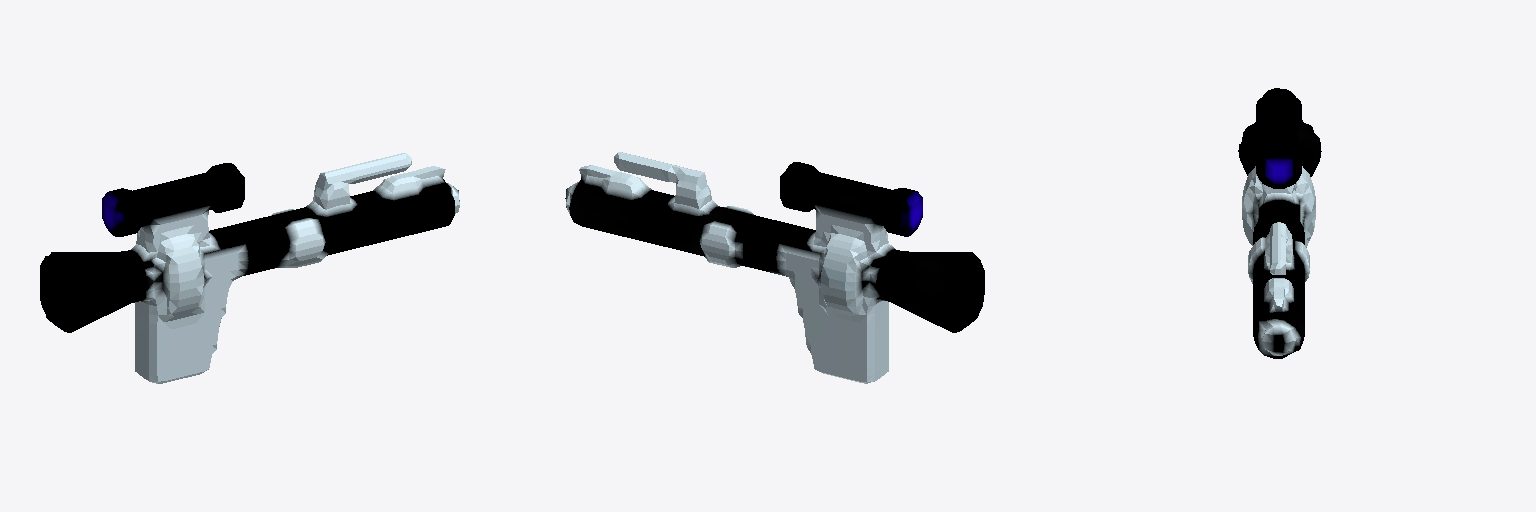
The picture shows the model from 3 angles: view 1: azimuth 30°, elevation 25°; view 2: azimuth 150°, elevation 25°; view 3: azimuth 270°, elevation 25°; orthographic projection.
Parts seen in each view (by area): view 1: Box_1; view 2: Box_1; view 3: Box_1.
Part boxes in pixels (x1,y1,x2,y2): Box_1: (40,153,459,383); Box_1: (565,152,984,383); Box_1: (1238,88,1321,358).
Bounding box in the file's own units: 1061 × 494 × 191.
Materials: 1 (1 with a texture image).